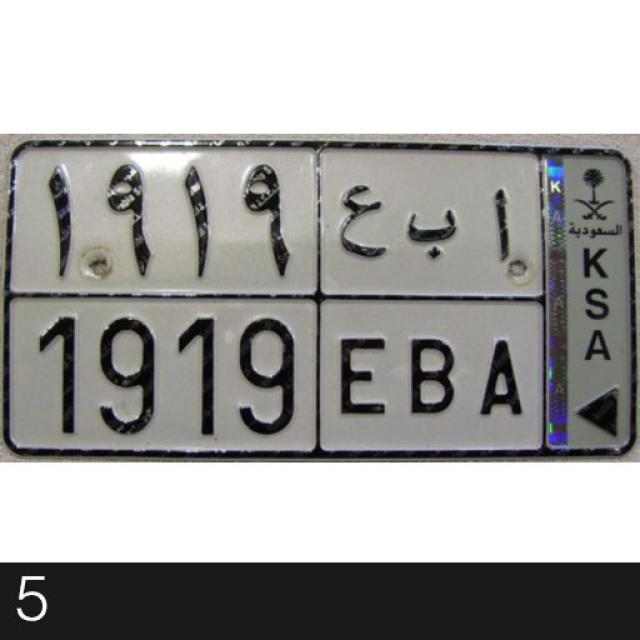license_plate: (0, 290, 552, 456)
